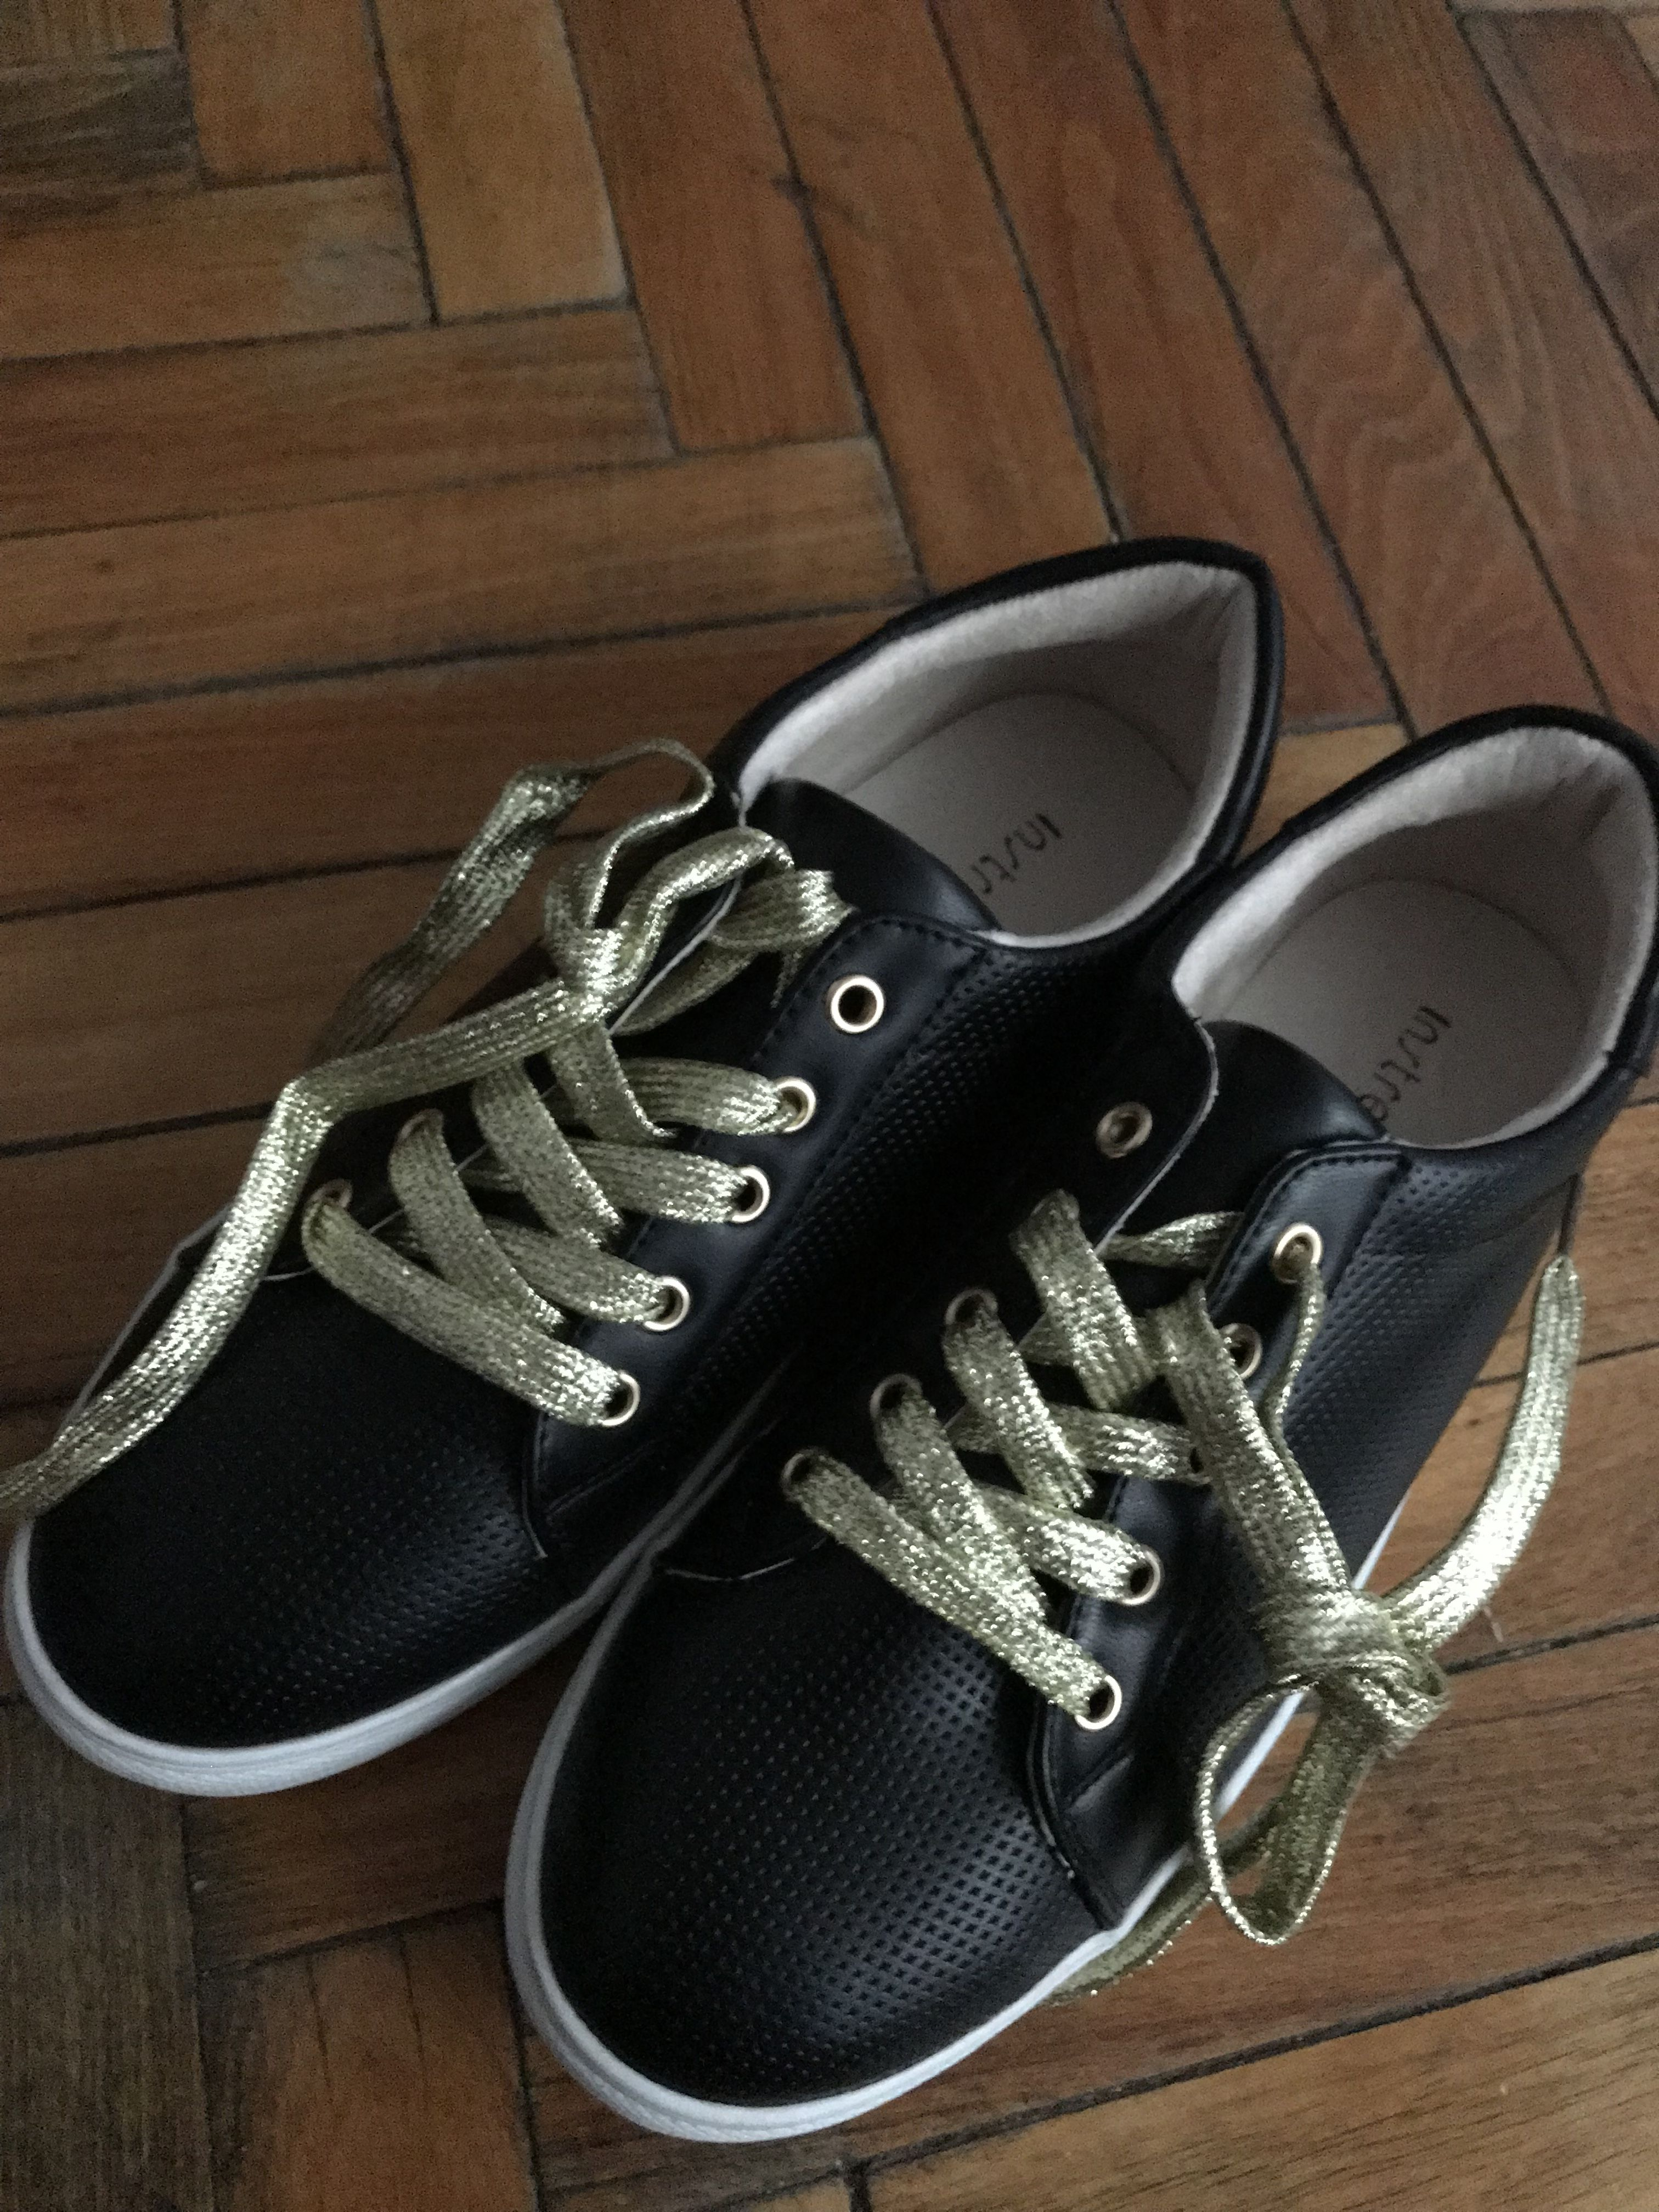clothes: (24, 540, 1645, 2142)
